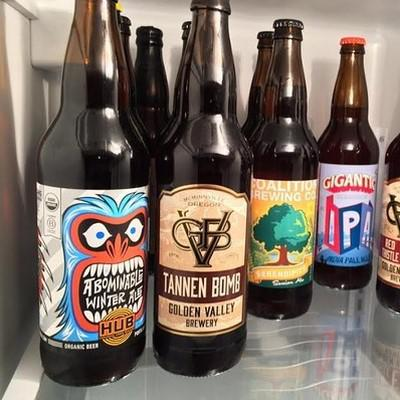beer: (35, 1, 395, 387)
